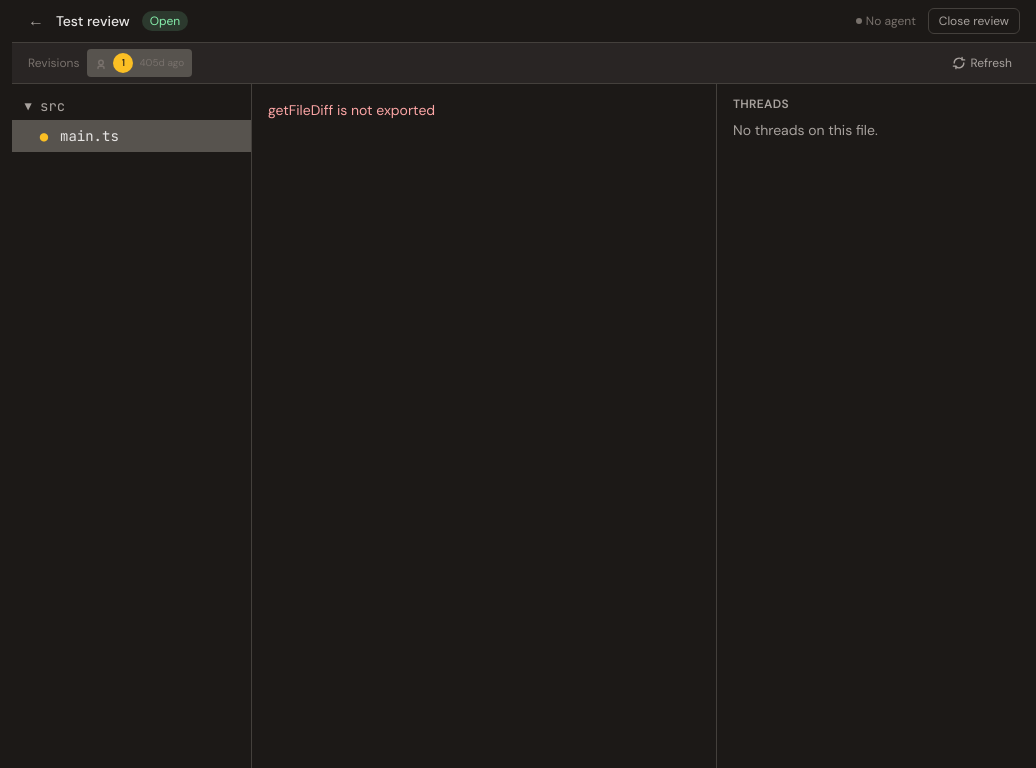
Test: ReviewView status toggle › toggles button text after closing
Click the button "Close review". click: point(974, 21)
box: left=928, top=8, right=1020, bottom=34
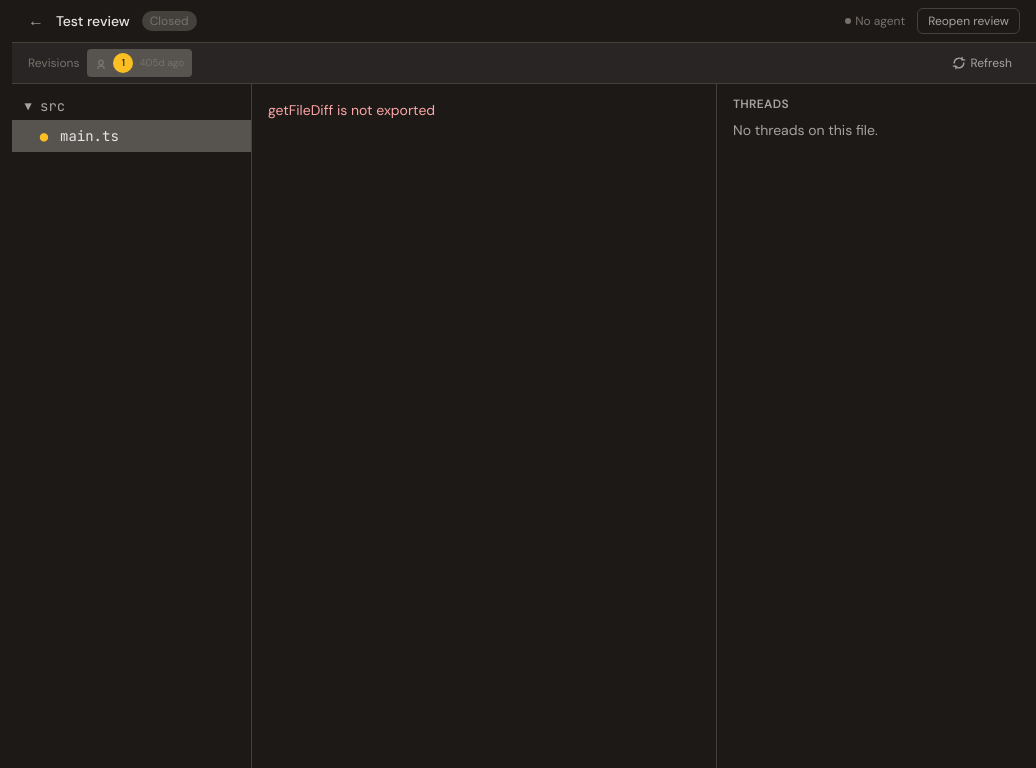
Now the button "Reopen review" is shown, box left=917, top=8, right=1020, bottom=34
